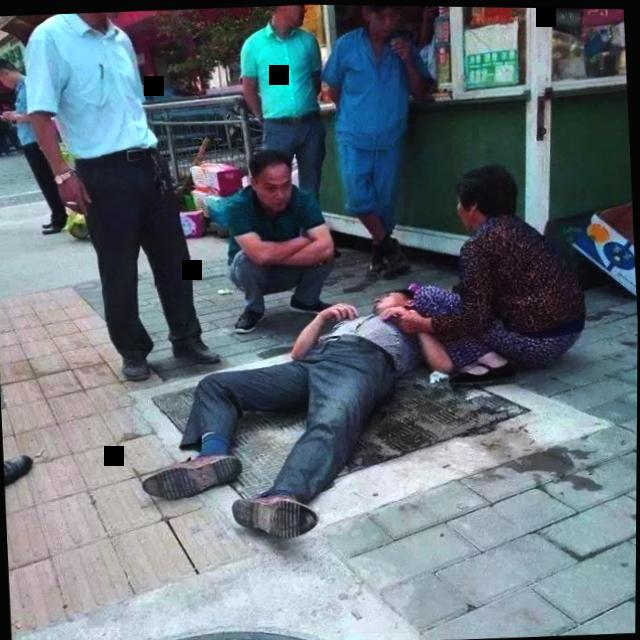Fall-Detected: (122, 272, 466, 558)
